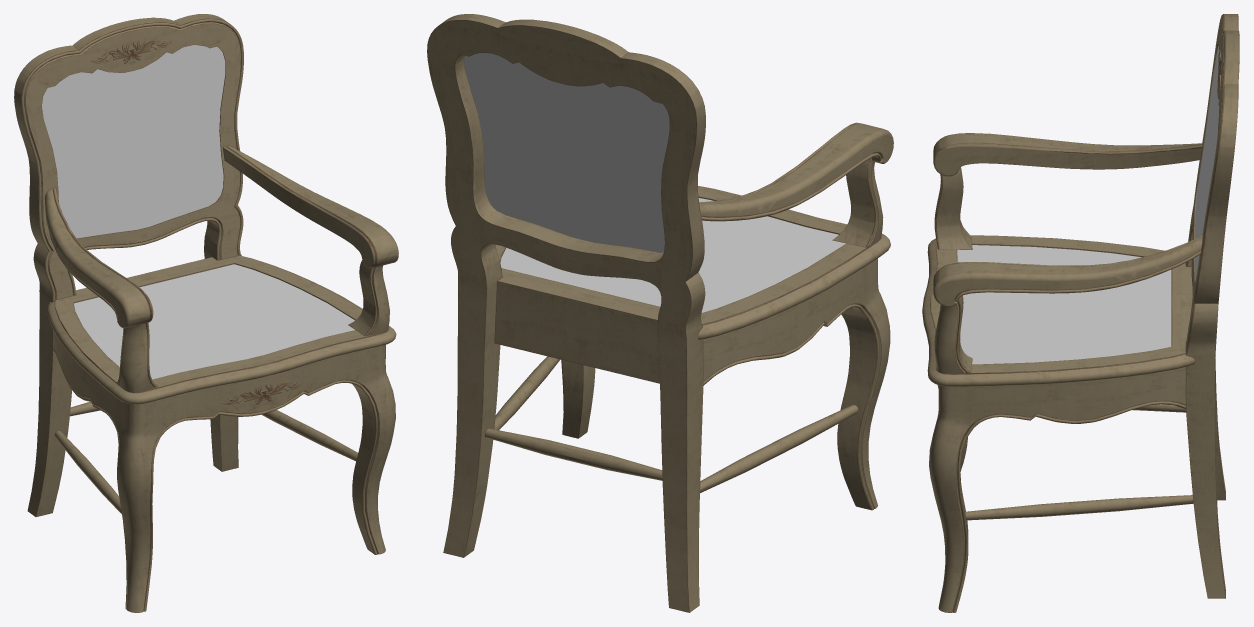
The model's file is example120.gltf.
3 views of the same model, side by side, from view 1: azimuth 30°, elevation 25°; view 2: azimuth 150°, elevation 25°; view 3: azimuth 270°, elevation 25° (orthographic). The views are drawn at different scales.
Size of the model in its own units: 62.06 by 99.21 by 57.26.
